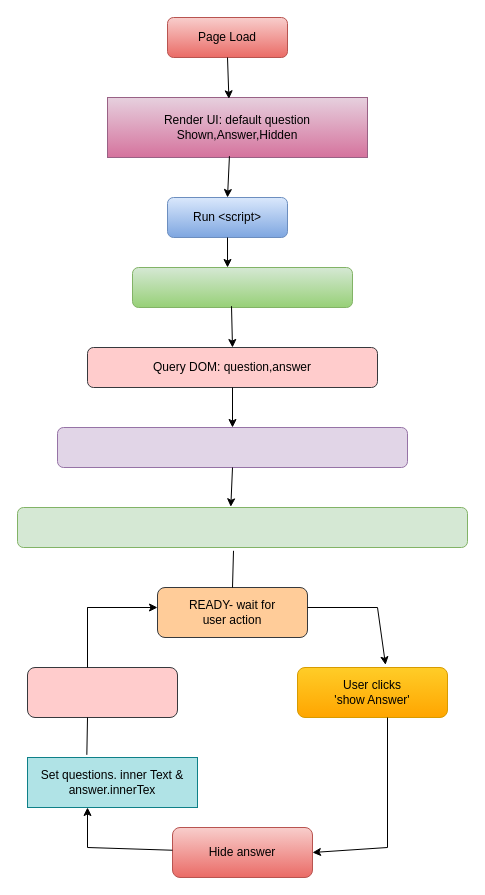
Image size: 485x895. Some labels were removed from this diagram. The centre of each missing label's shape, as x and y in pixels:
Attach handlers (inline onclicks on buttons): [242,527]
Define functions: new teaser(), show answer(): [232,447]
Initialize 'teasers' array: [242,287]
User clicks 'New Teaser': [102,692]
